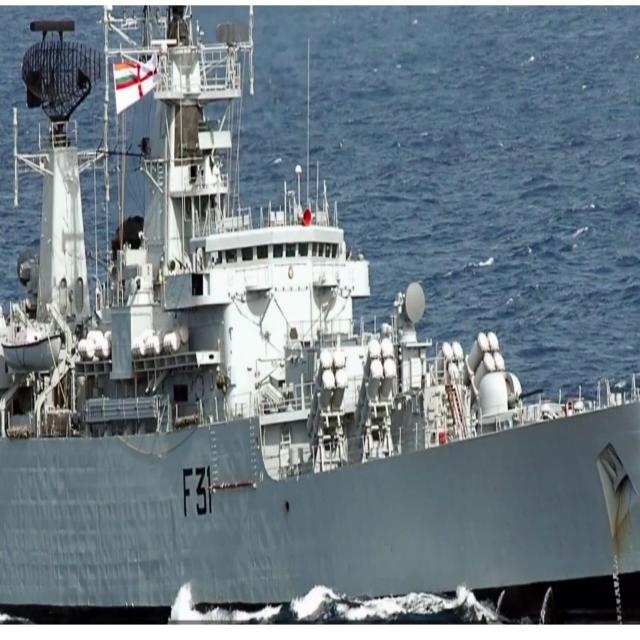OCR: (181, 463, 213, 522)
